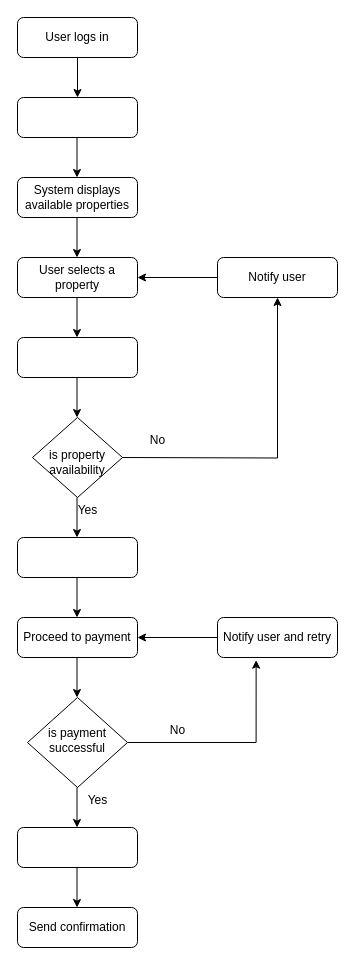
This 355x965 diagram has some shape labels left out. Each missing label, with the centre of its shape:
"Calculate total price" goes at (77,557).
"Create booking" goes at (77,847).
"User searches for properties" goes at (77,117).
"User selects booking dates" goes at (77,357).
